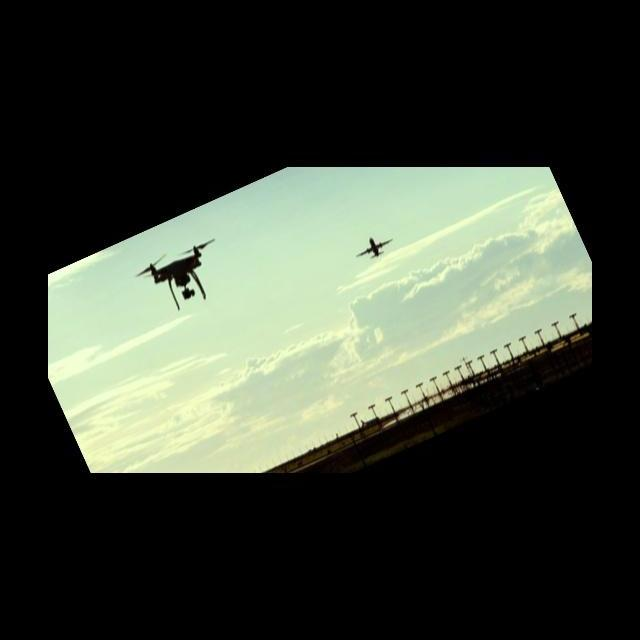airplane: (356, 233, 392, 260)
